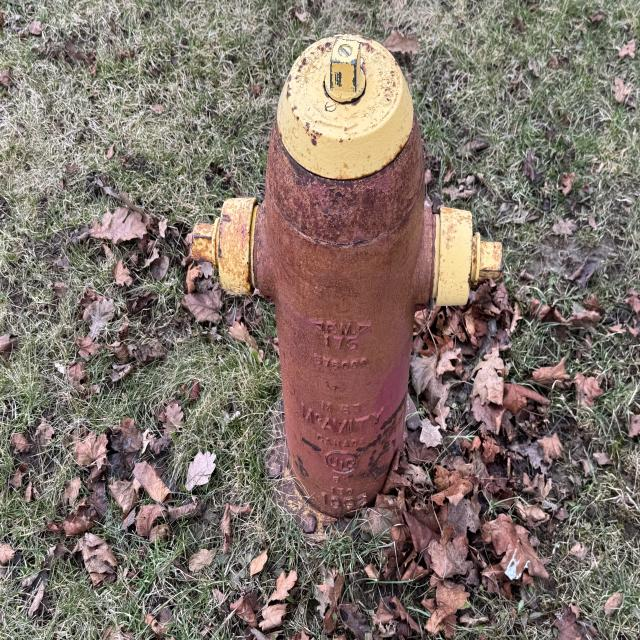Fire hydrant: (192, 32, 504, 539)
